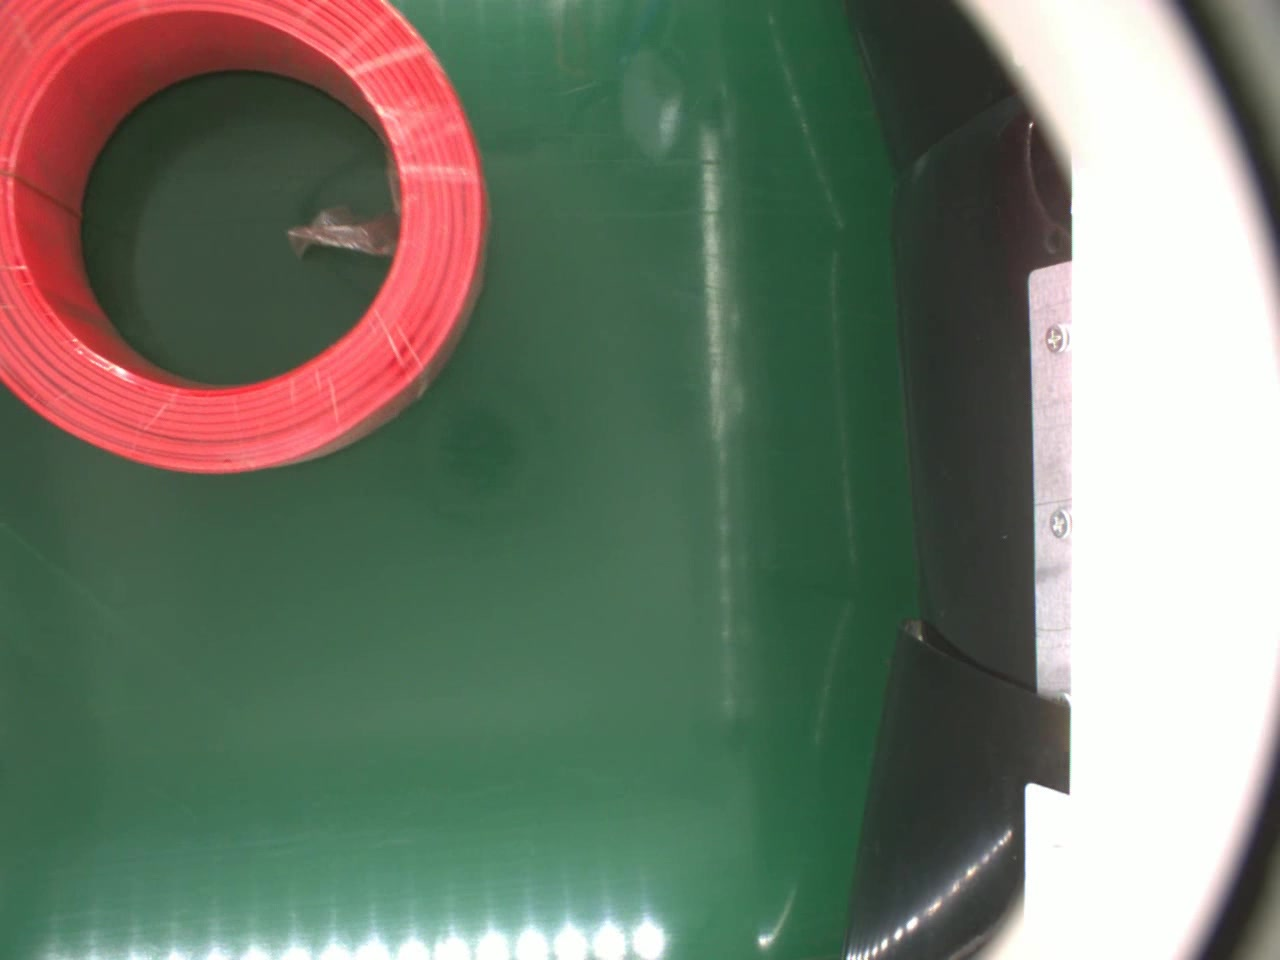red: (0, 0, 492, 479)
